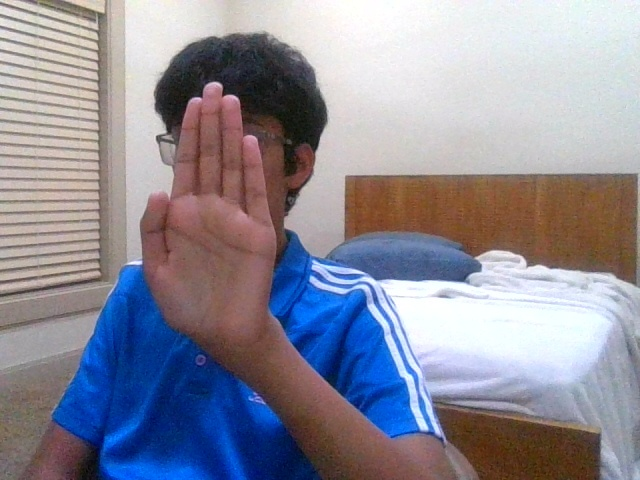hello: (139, 82, 277, 338)
